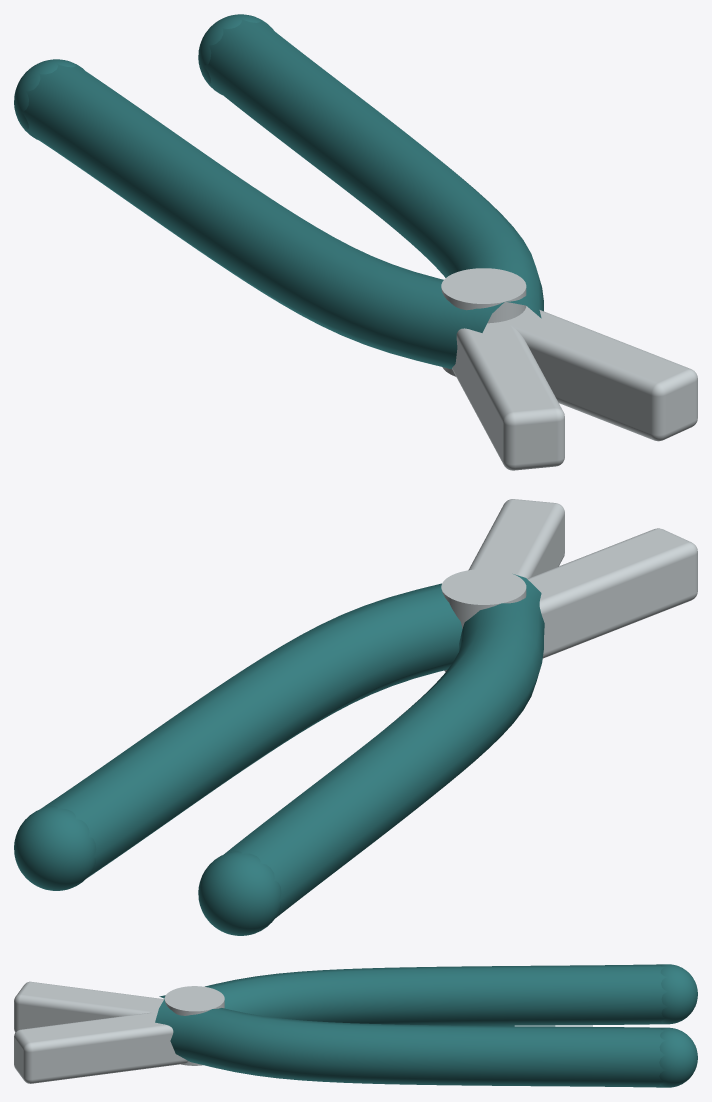
File: tabletop-hobby-store-and-club-sprue-cutting-nipper-14d73f29__31578.glb
The picture shows the model from 3 angles, top to bottom: view 1: azimuth 30°, elevation 25°; view 2: azimuth 150°, elevation 25°; view 3: azimuth 270°, elevation 25°; orthographic projection. The views are drawn at different scales.
Visible parts, largest first — view 1: sprue-cutting-nipper; view 2: sprue-cutting-nipper; view 3: sprue-cutting-nipper.
Part boxes in pixels (bbox=[...]): sprue-cutting-nipper: bbox=[14, 14, 697, 470]; sprue-cutting-nipper: bbox=[14, 499, 697, 935]; sprue-cutting-nipper: bbox=[14, 964, 697, 1087].
Bounding box in the file's own units: 0.028 × 0.008 × 0.0911.
